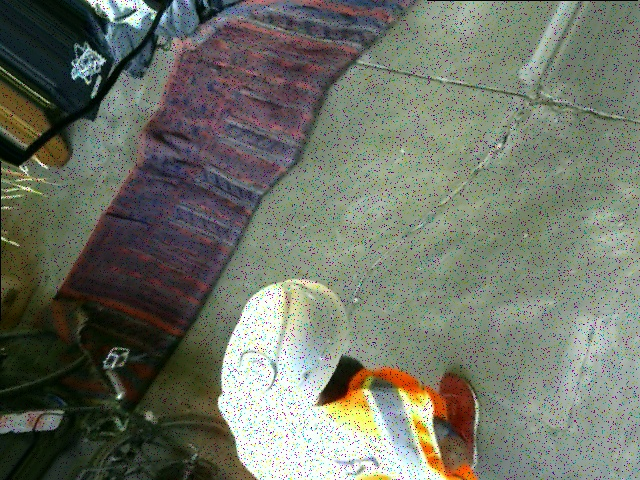three: (227, 342, 282, 402)
